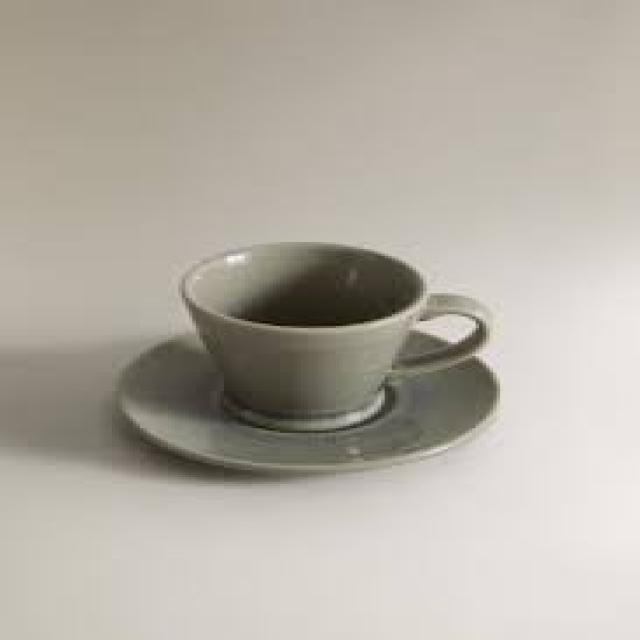taza: (176, 242, 494, 432)
